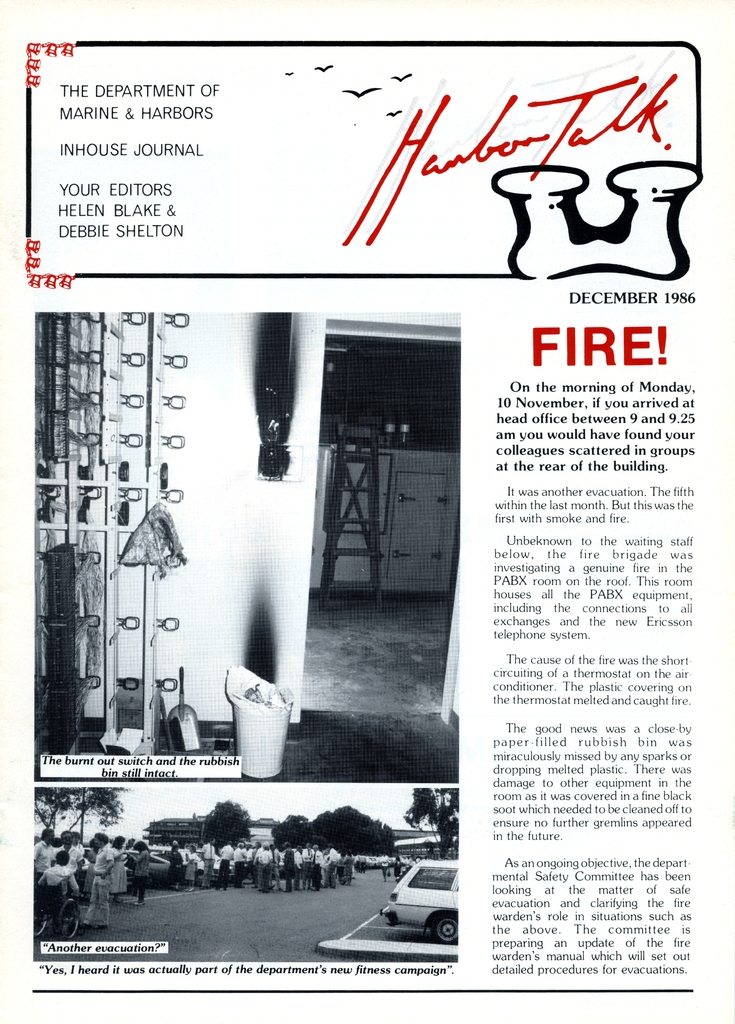Car: (381, 860, 461, 946)
